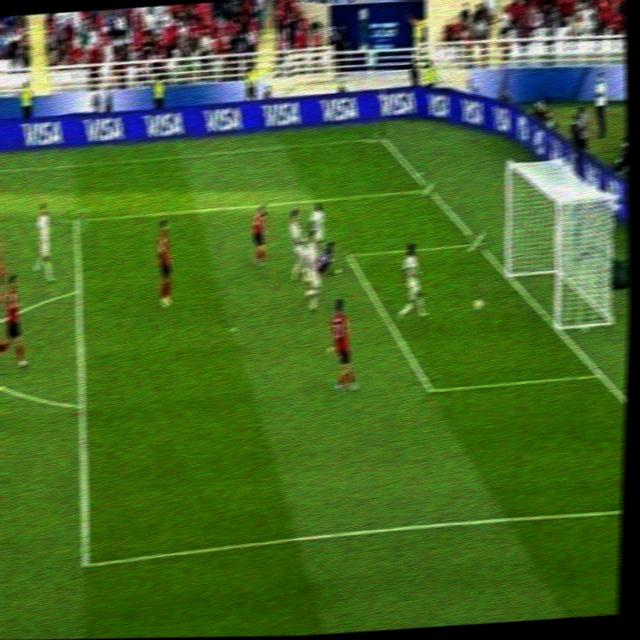bigarea_bottom_inner: (71, 544, 100, 577)
bigarea_top_inner: (62, 209, 89, 234)
bigarea_top_outter: (422, 182, 434, 196)
bottom_arc_area_intersection: (65, 393, 99, 418)
corner: (368, 132, 387, 143)
smallarea_bottom_inner: (415, 370, 442, 406)
smallarea_bottom_outter: (585, 361, 609, 388)
smallarea_top_inner: (342, 250, 357, 269)
smallarea_top_outter: (467, 231, 485, 251)
top_arc_area_intersection: (70, 282, 85, 299)
